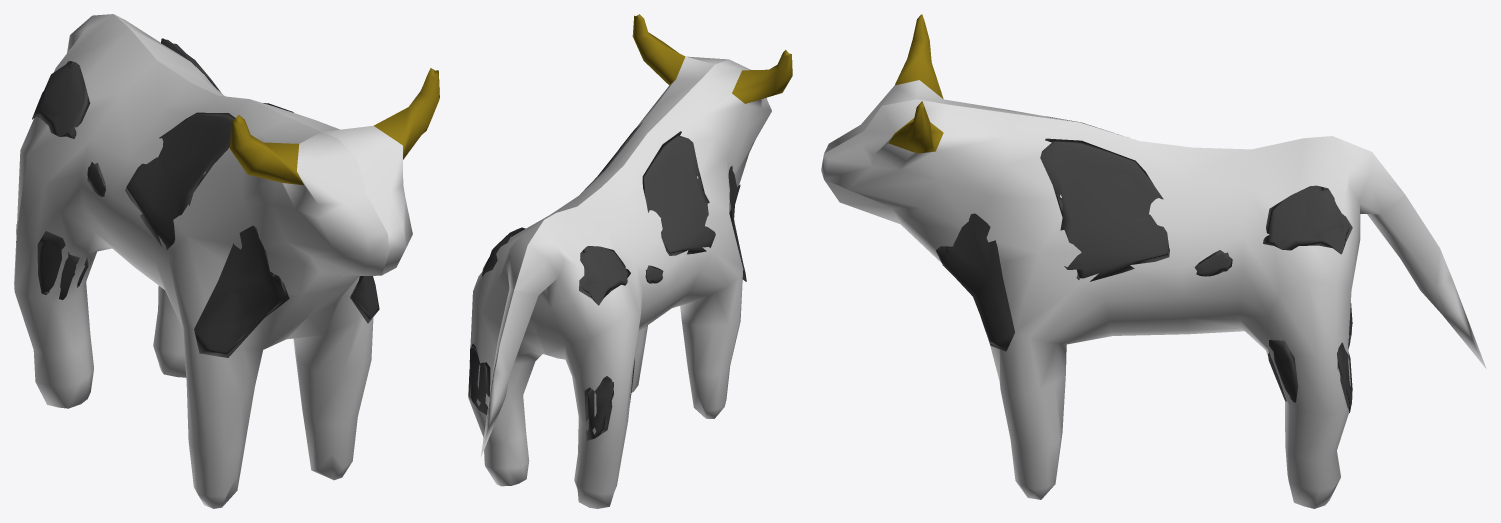
The model's file is vaca.fbx.
The picture shows the model from 3 angles, left to right: view 1: azimuth 30°, elevation 25°; view 2: azimuth 150°, elevation 25°; view 3: azimuth 270°, elevation 25°; orthographic projection. The views are drawn at different scales.
Visible parts, largest first — view 1: Skin_ZSphere3, Extract5; view 2: Skin_ZSphere3, Extract5; view 3: Skin_ZSphere3, Extract5.
Part boxes in pixels (x1,y1,x2,y2): Skin_ZSphere3: (14,14,439,508); Extract5: (16,38,379,357); Skin_ZSphere3: (468,14,792,508); Extract5: (468,122,746,440); Skin_ZSphere3: (821,14,1486,508); Extract5: (936,116,1352,412).
Bounding box in the file's own units: 287 × 589 × 850.
